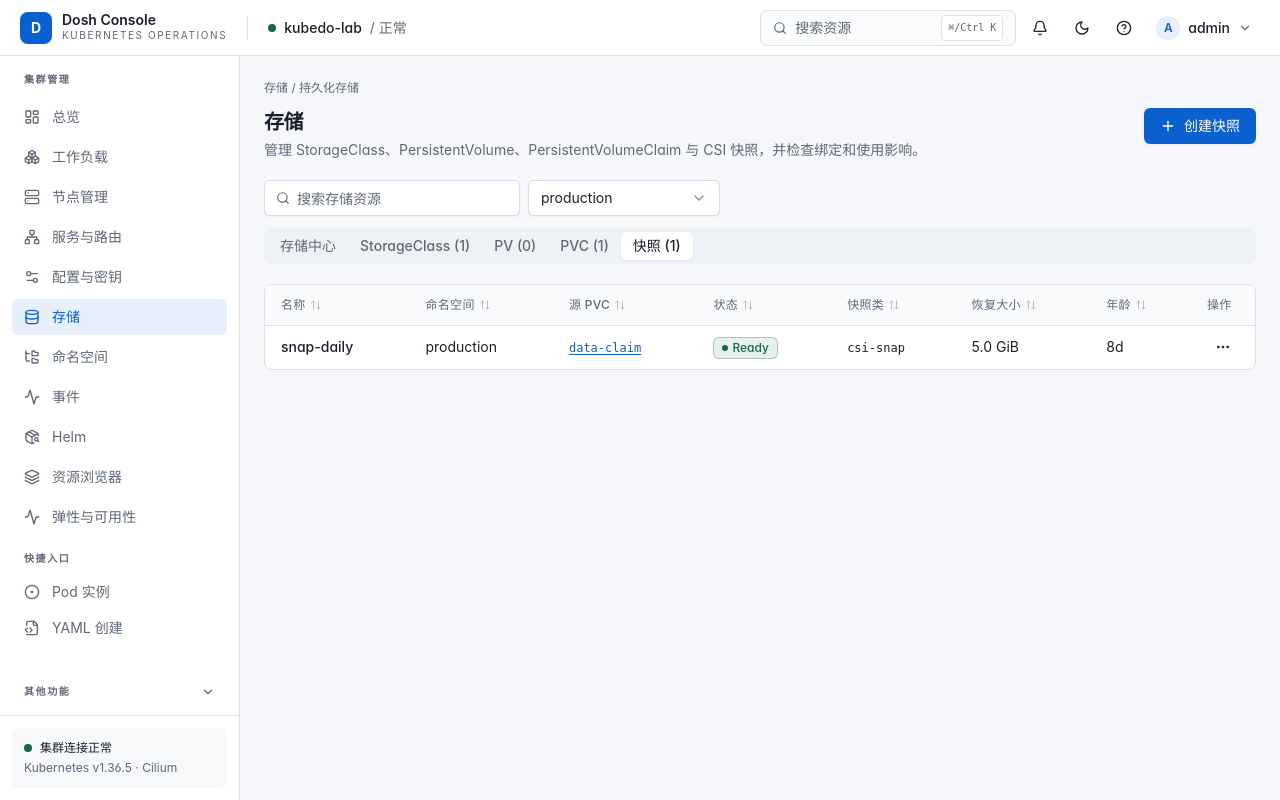
dosh application › restores a PVC from a ready VolumeSnapshot with a minimum restore size
The width and height of the screenshot is (1280, 800).
Expected: the cell "snap-daily" is shown, [265,325,410,369]
Press the mouse on the button named "操作 VolumeSnapshot production/snap-daily" at [1223, 347], box [1207,331,1239,363]
Click the button named "操作 VolumeSnapshot production/snap-daily" at [1223, 347], box [1207,331,1239,363]
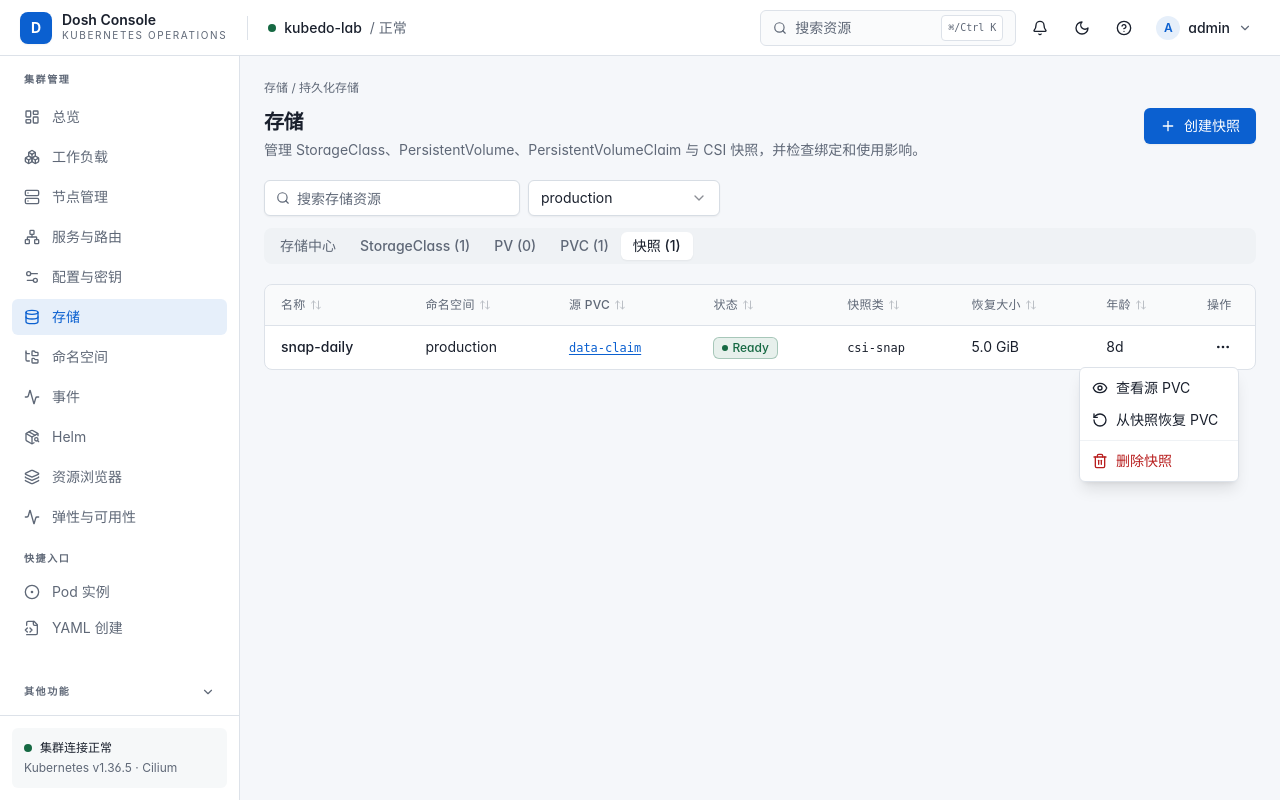
Click the menu item "从快照恢复 PVC" at [1155, 420], box [1092,411,1218,428]
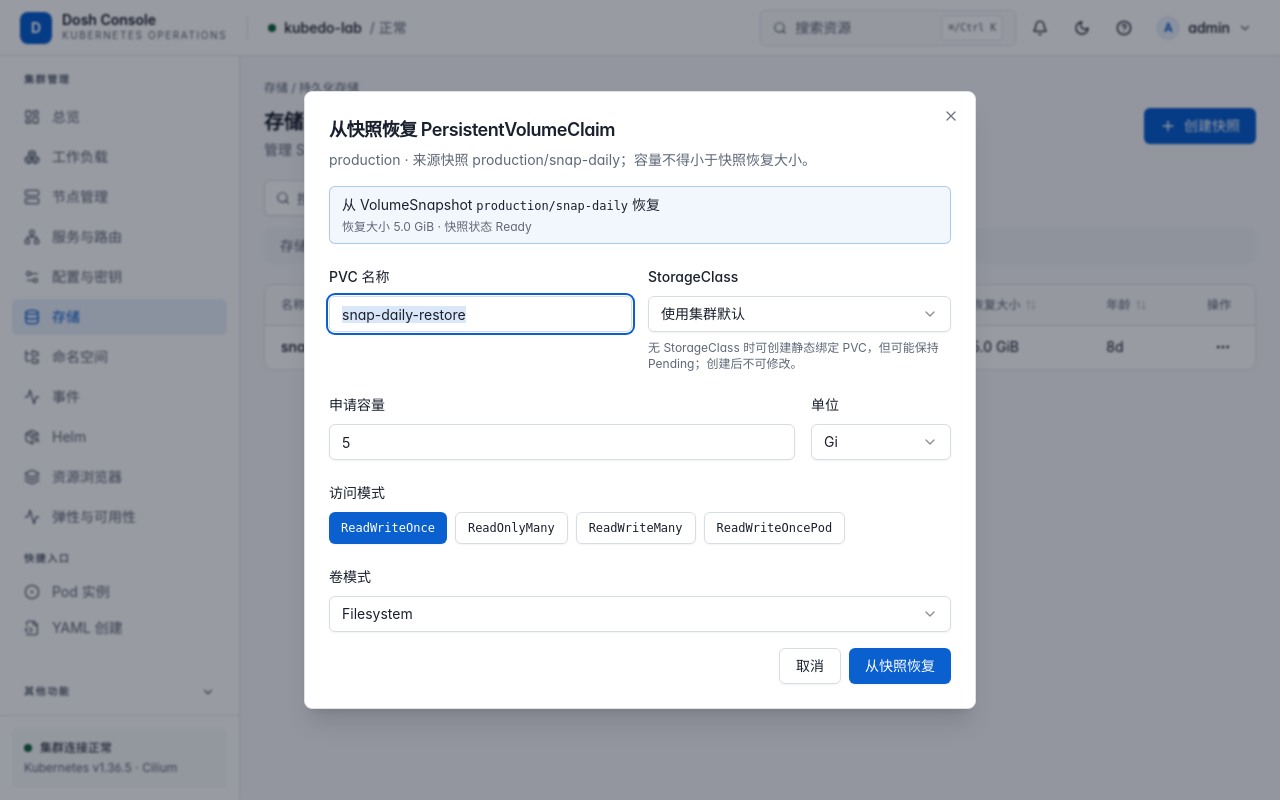
Expected: the dialog "从快照恢复 PersistentVolumeClaim" shows "production/snap-daily", [412,151,816,168]
Expected: the dialog "从快照恢复 PersistentVolumeClaim" shows "恢复大小 5.0 GiB", [304,91,976,709]
Replace the text in the field labelled "申请容量" with "6" at [562, 442], box [329,424,795,460]
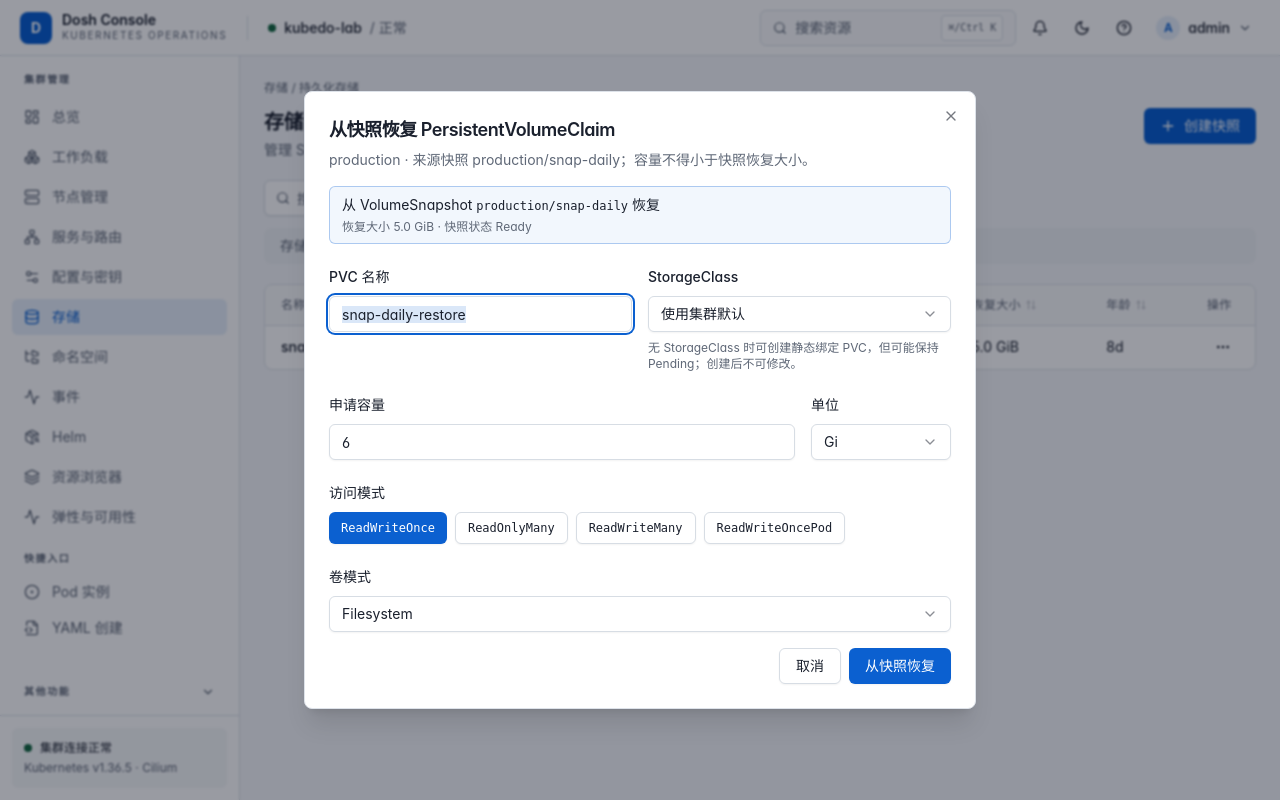
Click the button "从快照恢复" at [900, 666], box [849,648,951,684]
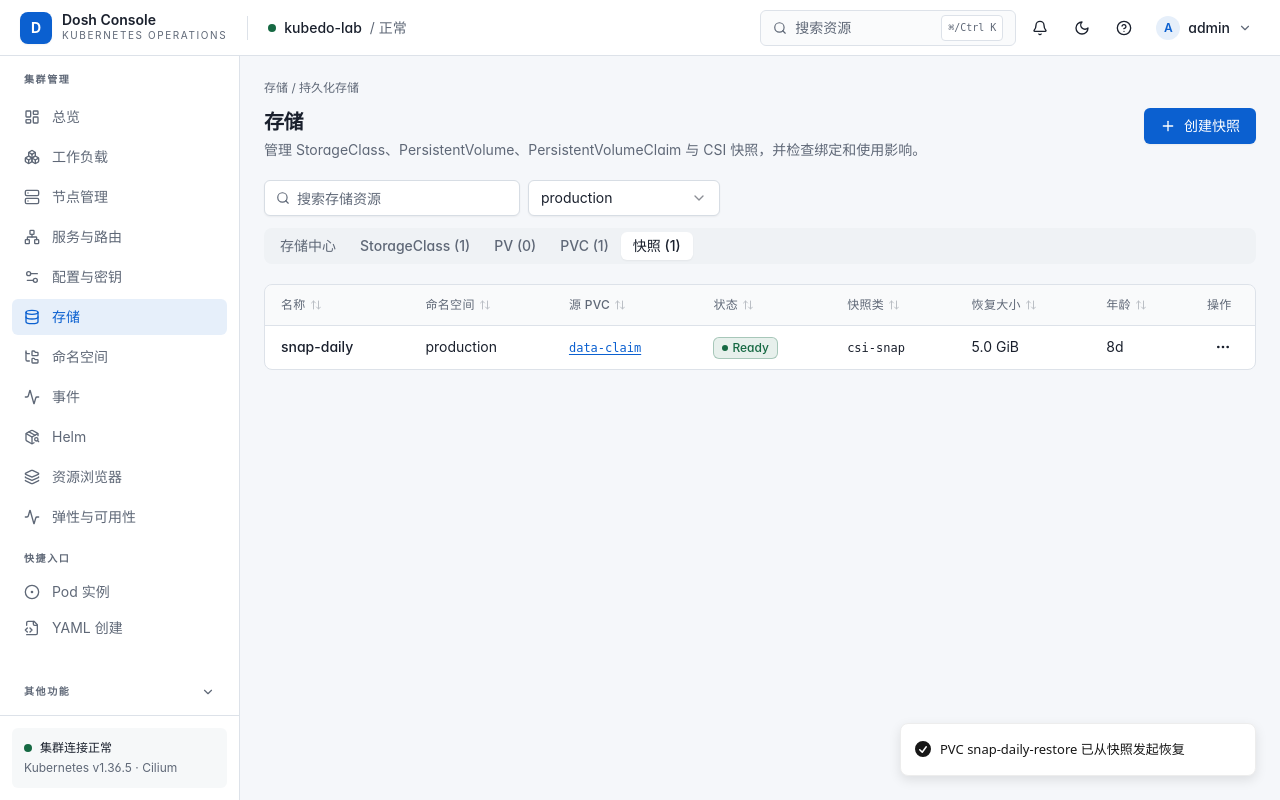
Expected: the text "PVC snap-daily-restore 已从快照发起恢复" is shown, [940,740,1185,759]
